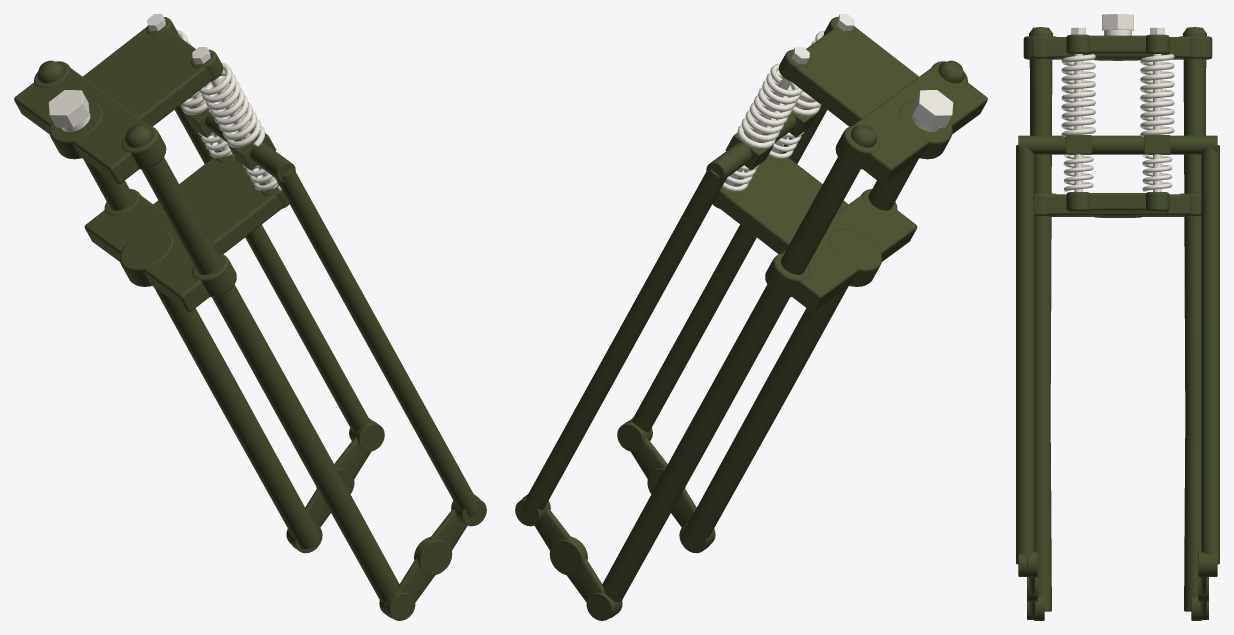
File: bike_vintage_vtwin__forks.glb
3 views of the same model, side by side, from view 1: azimuth 30°, elevation 25°; view 2: azimuth 150°, elevation 25°; view 3: azimuth 270°, elevation 25° (orthographic). The views are drawn at different scales.
Visible parts, largest first — view 1: chassis__front_fork__rigid_legs, chassis__front_fork__sprung_legs, chassis__steering__upper_crown, chassis__steering__lower_crown, chassis__front_fork__rockers, chassis__front_fork__springs, chassis__steering__stem_and_nut, chassis__front_fork__spring_rods, chassis__front_fork__recoil_springs; view 2: chassis__front_fork__rigid_legs, chassis__front_fork__sprung_legs, chassis__steering__upper_crown, chassis__steering__lower_crown, chassis__front_fork__rockers, chassis__front_fork__springs, chassis__steering__stem_and_nut, chassis__front_fork__spring_rods, chassis__front_fork__recoil_springs; view 3: chassis__front_fork__sprung_legs, chassis__front_fork__rigid_legs, chassis__front_fork__springs, chassis__steering__upper_crown, chassis__steering__lower_crown, chassis__front_fork__recoil_springs, chassis__front_fork__rockers, chassis__front_fork__spring_rods, chassis__steering__stem_and_nut.
Part boxes in pixels (left/top/right/bottom): chassis__front_fork__rigid_legs: left=37, top=60, right=399, bottom=618; chassis__front_fork__sprung_legs: left=174, top=105, right=486, bottom=526; chassis__steering__upper_crown: left=14, top=17, right=222, bottom=184; chassis__steering__lower_crown: left=84, top=150, right=289, bottom=311; chassis__front_fork__rockers: left=286, top=420, right=479, bottom=620; chassis__front_fork__springs: left=176, top=29, right=265, bottom=147; chassis__steering__stem_and_nut: left=48, top=90, right=90, bottom=132; chassis__front_fork__spring_rods: left=147, top=14, right=277, bottom=189; chassis__front_fork__recoil_springs: left=198, top=132, right=281, bottom=190; chassis__front_fork__rigid_legs: left=602, top=60, right=964, bottom=618; chassis__front_fork__sprung_legs: left=515, top=100, right=827, bottom=526; chassis__steering__upper_crown: left=779, top=17, right=987, bottom=184; chassis__steering__lower_crown: left=712, top=151, right=917, bottom=311; chassis__front_fork__rockers: left=522, top=420, right=715, bottom=620; chassis__front_fork__springs: left=737, top=31, right=824, bottom=148; chassis__steering__stem_and_nut: left=911, top=90, right=953, bottom=132; chassis__front_fork__spring_rods: left=725, top=14, right=854, bottom=186; chassis__front_fork__recoil_springs: left=722, top=131, right=804, bottom=191; chassis__front_fork__sprung_legs: left=1016, top=135, right=1219, bottom=576; chassis__front_fork__rigid_legs: left=1029, top=27, right=1206, bottom=620; chassis__front_fork__springs: left=1061, top=54, right=1174, bottom=136; chassis__steering__upper_crown: left=1023, top=34, right=1212, bottom=60; chassis__steering__lower_crown: left=1034, top=192, right=1201, bottom=217; chassis__front_fork__recoil_springs: left=1063, top=154, right=1172, bottom=191; chassis__front_fork__rockers: left=1027, top=551, right=1208, bottom=619; chassis__front_fork__spring_rods: left=1071, top=27, right=1164, bottom=191; chassis__steering__stem_and_nut: left=1102, top=14, right=1133, bottom=35.
Bounding box in the file's own units: 44.15 × 65.72 × 23.3.
